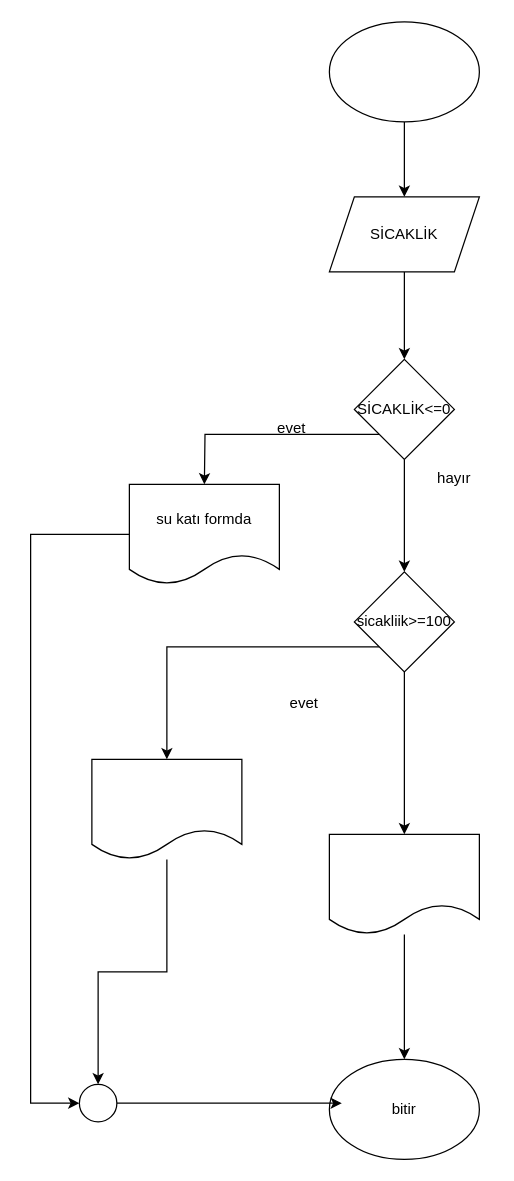
The diagram is 514 pixels wide and 1181 high, and some of its shapes have lost their labels. The centre of each missing label's shape, as x and y in pixels:
"BAŞLA" belongs at point (403, 71).
"su gaz formda" belongs at point (166, 808).
"susıvı fomda" belongs at point (403, 883).
